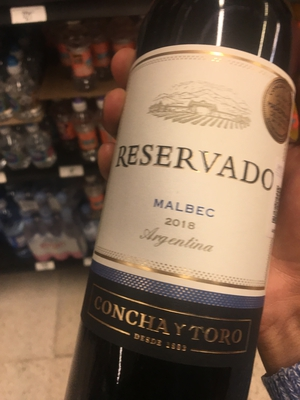reservado malbec: (90, 20, 291, 400)
